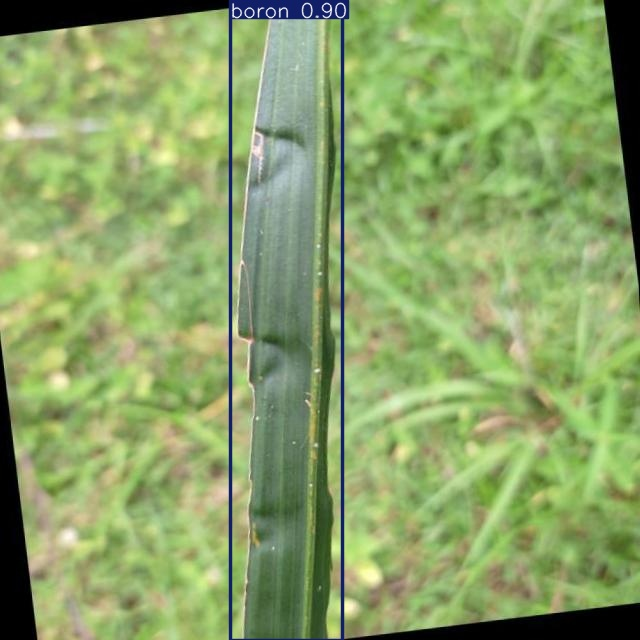nitrogen: (231, 0, 342, 640)
